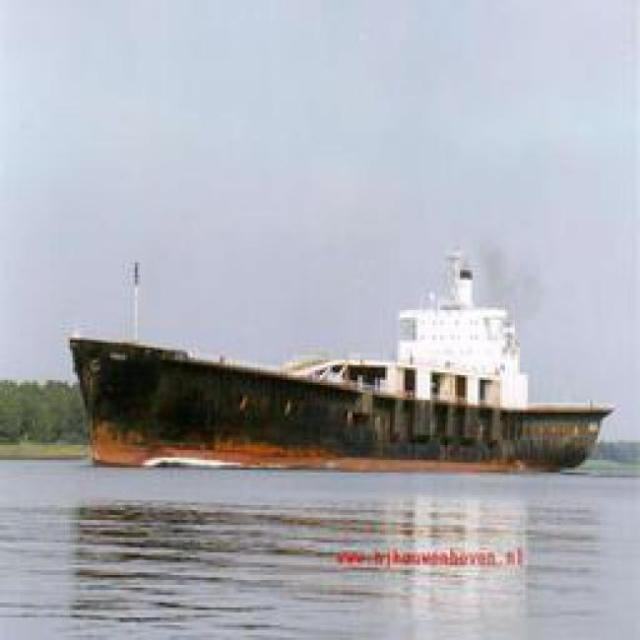boat: (62, 311, 625, 494)
